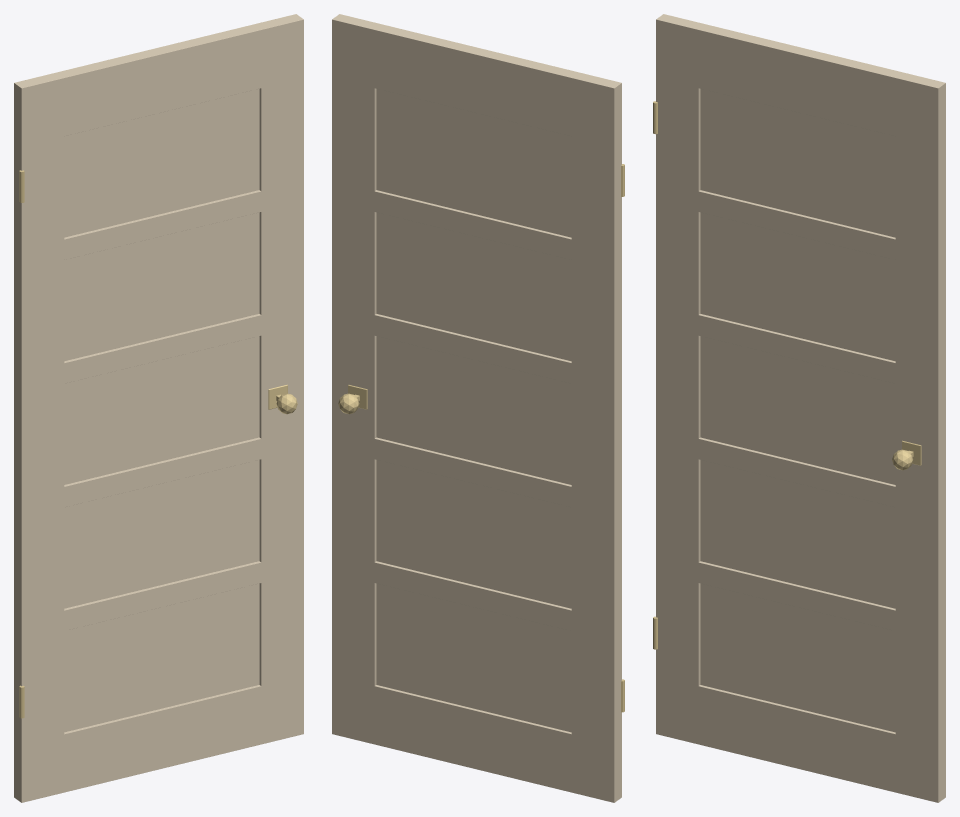
Rendered from door_int.glb.
3 renders of one model, left to right at view 1: azimuth 30°, elevation 25°; view 2: azimuth 150°, elevation 25°; view 3: azimuth 330°, elevation 25°, orthographic.
Parts seen in each view (by area): view 1: door_int_door_int, door_int_brass; view 2: door_int_door_int, door_int_brass; view 3: door_int_door_int, door_int_brass.
Part boxes in pixels (left/top/right/bottom): door_int_door_int: left=14, top=14, right=303, bottom=802; door_int_brass: left=19, top=170, right=297, bottom=718; door_int_door_int: left=332, top=14, right=621, bottom=802; door_int_brass: left=338, top=164, right=624, bottom=712; door_int_door_int: left=656, top=14, right=945, bottom=802; door_int_brass: left=653, top=101, right=921, bottom=649.
Size of the model in its own units: 0.867 by 2.08 by 0.196.
